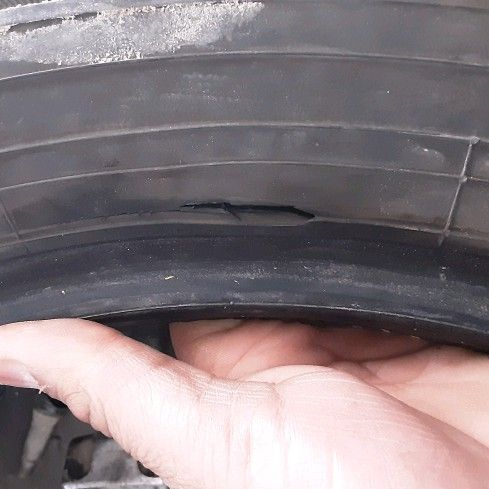cut: (178, 199, 319, 228)
